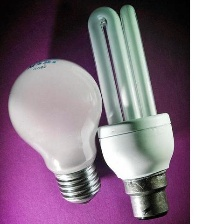light_bulb: (81, 1, 178, 224), (6, 54, 101, 206)
